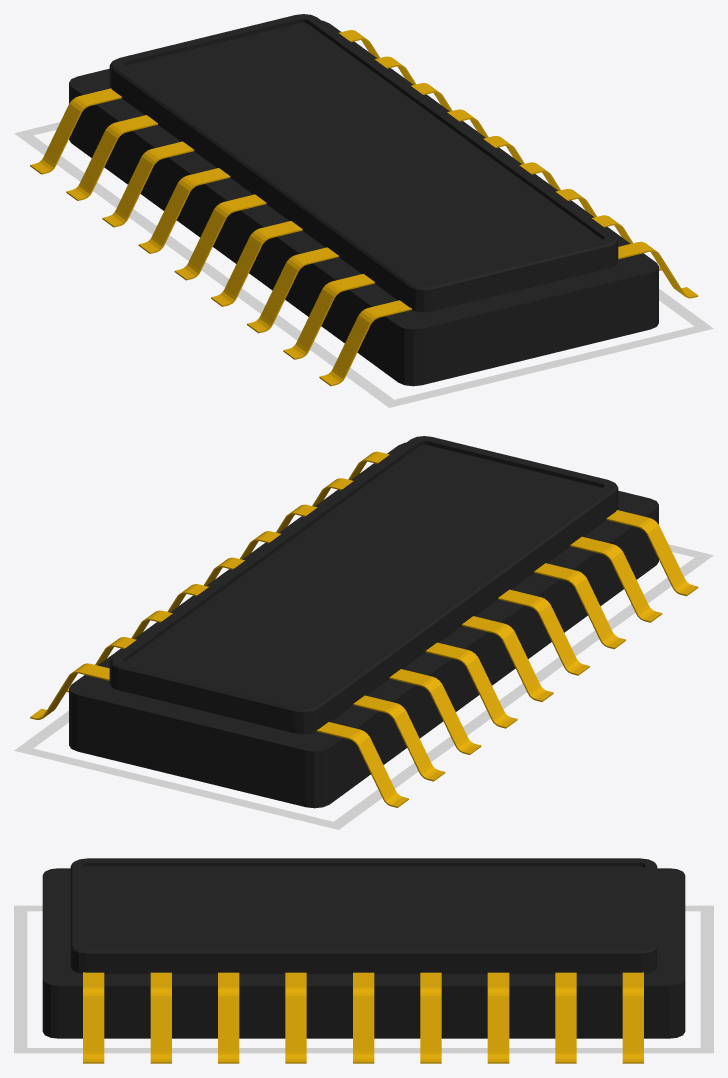
Rendered from chip.fbx.
3 views of the same model, one above another, from view 1: azimuth 30°, elevation 25°; view 2: azimuth 150°, elevation 25°; view 3: azimuth 270°, elevation 25° (orthographic). The views are drawn at different scales.
Parts seen in each view (by area): view 1: chip; view 2: chip; view 3: chip.
Part boxes in pixels (left/top/right/bottom): chip: left=14, top=14, right=713, bottom=407; chip: left=14, top=436, right=713, bottom=829; chip: left=14, top=858, right=713, bottom=1063.
Size of the model in its own units: 43.57 by 9.13 by 77.04.
